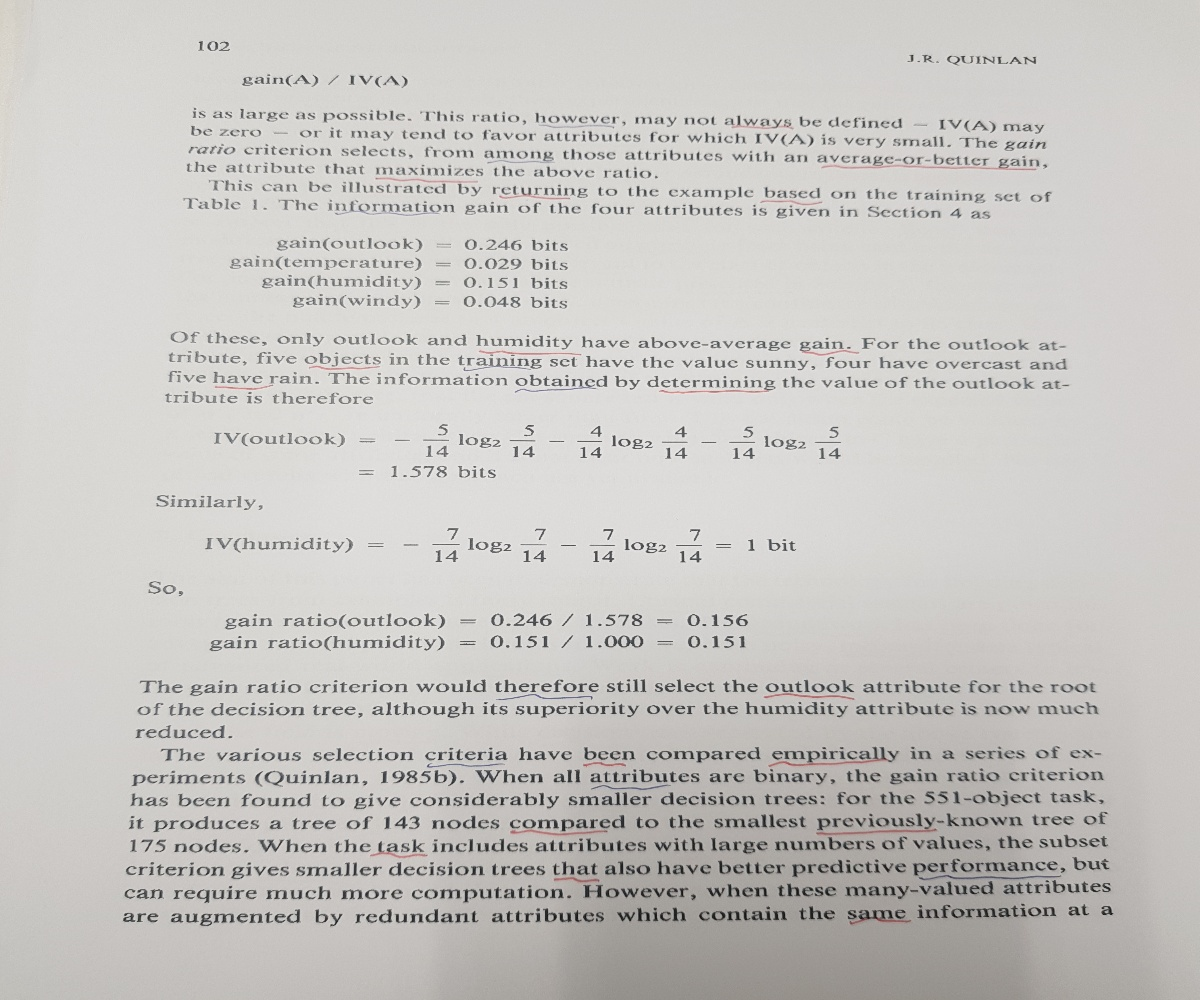underline: (819, 162, 1036, 172), (477, 344, 585, 358), (916, 871, 1063, 881), (767, 756, 887, 768), (652, 383, 769, 395), (375, 172, 480, 185), (331, 208, 443, 219), (494, 691, 593, 703), (815, 827, 937, 836), (513, 384, 600, 395), (763, 691, 857, 701), (588, 782, 671, 793), (506, 827, 607, 836), (483, 156, 557, 167), (536, 121, 615, 131), (422, 759, 505, 768), (367, 849, 428, 861), (461, 363, 533, 373), (846, 916, 911, 927), (798, 346, 862, 357), (758, 196, 821, 206), (728, 122, 796, 131), (496, 192, 571, 200), (551, 874, 603, 885), (210, 382, 279, 390), (305, 362, 380, 369), (582, 761, 628, 768)
